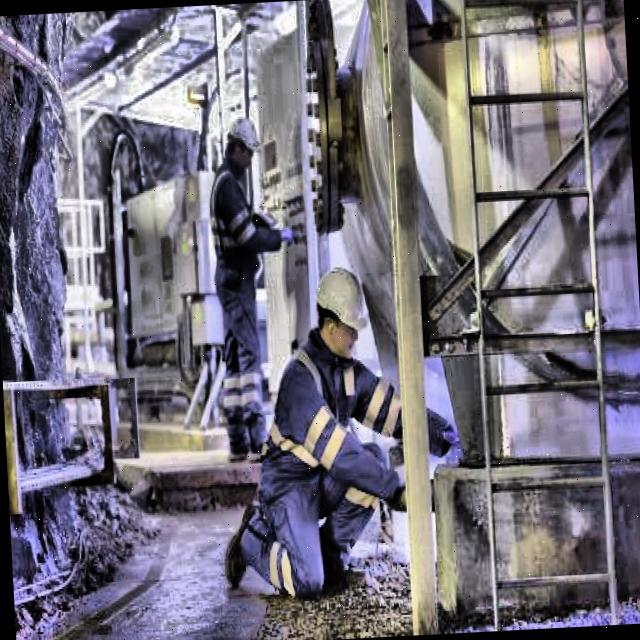helmet: (310, 260, 370, 362), (223, 112, 263, 183)
